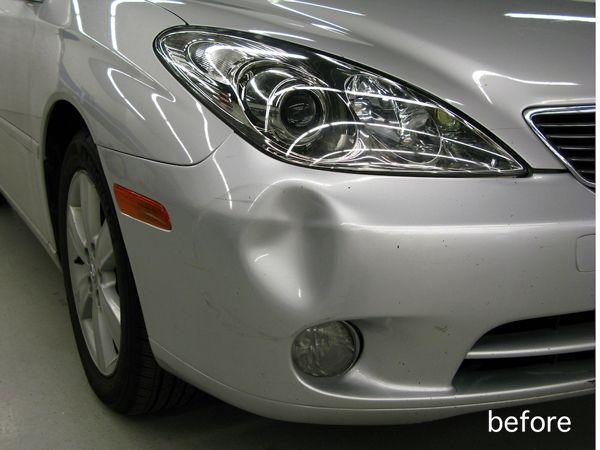dent: (234, 169, 354, 324)
